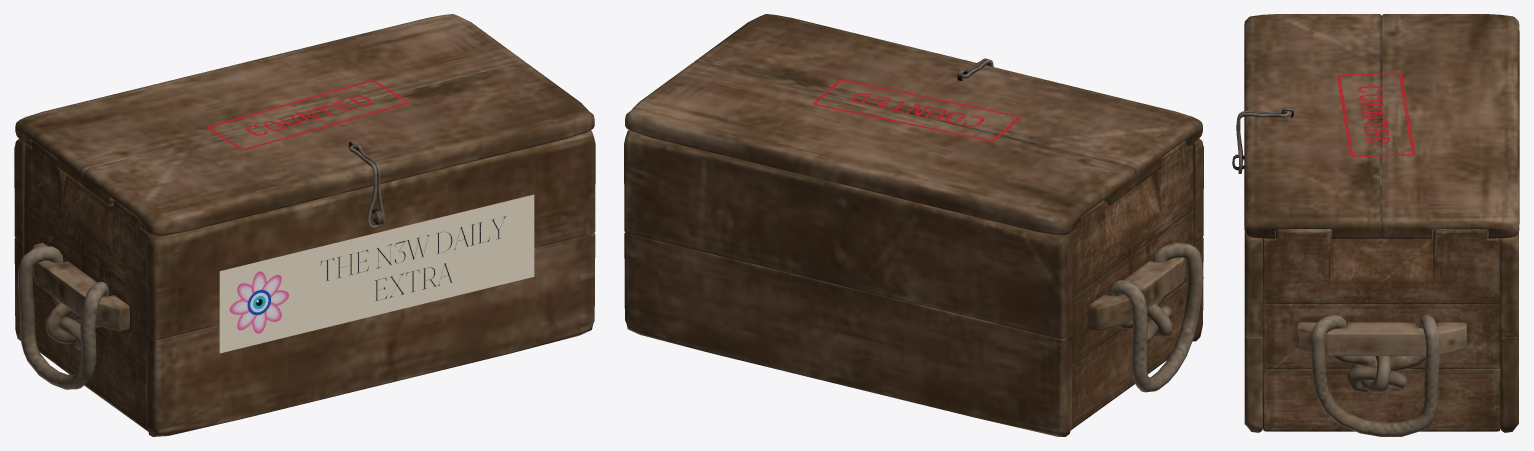
Rendered from nyb_naked_bundle.glb.
3 renders of one model, left to right at view 1: azimuth 30°, elevation 25°; view 2: azimuth 150°, elevation 25°; view 3: azimuth 270°, elevation 25°, orthographic. The views are drawn at different scales.
Visible parts, largest first — view 1: wooden_crate_01_lid, stk_lbl_3fe2b032c6.png, stk_counted.png; view 2: wooden_crate_01_lid, stk_counted.png; view 3: wooden_crate_01_lid, stk_counted.png.
Part boxes in pixels (bbox=[...]): wooden_crate_01_lid: bbox=[14, 14, 595, 436]; stk_lbl_3fe2b032c6.png: bbox=[219, 194, 534, 353]; stk_counted.png: bbox=[207, 80, 408, 149]; wooden_crate_01_lid: bbox=[624, 14, 1203, 436]; stk_counted.png: bbox=[813, 79, 1020, 141]; wooden_crate_01_lid: bbox=[1232, 14, 1519, 436]; stk_counted.png: bbox=[1337, 72, 1414, 157].
Bounding box in the file's own units: 0.8253 × 0.3496 × 0.4089.
Materials: 3 (3 with a texture image).
